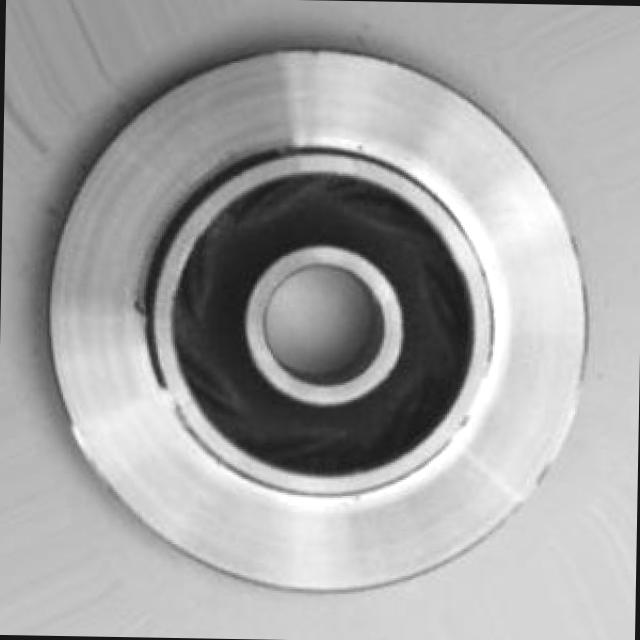Defect: (131, 289, 158, 324)
